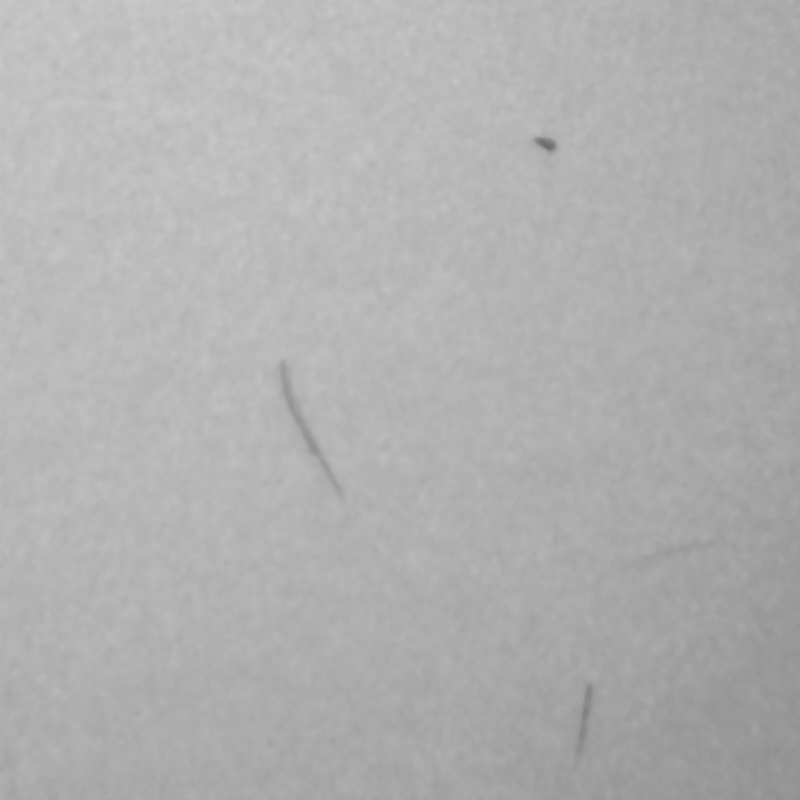defect: (275, 353, 350, 506), (570, 678, 600, 776), (531, 131, 561, 154)
